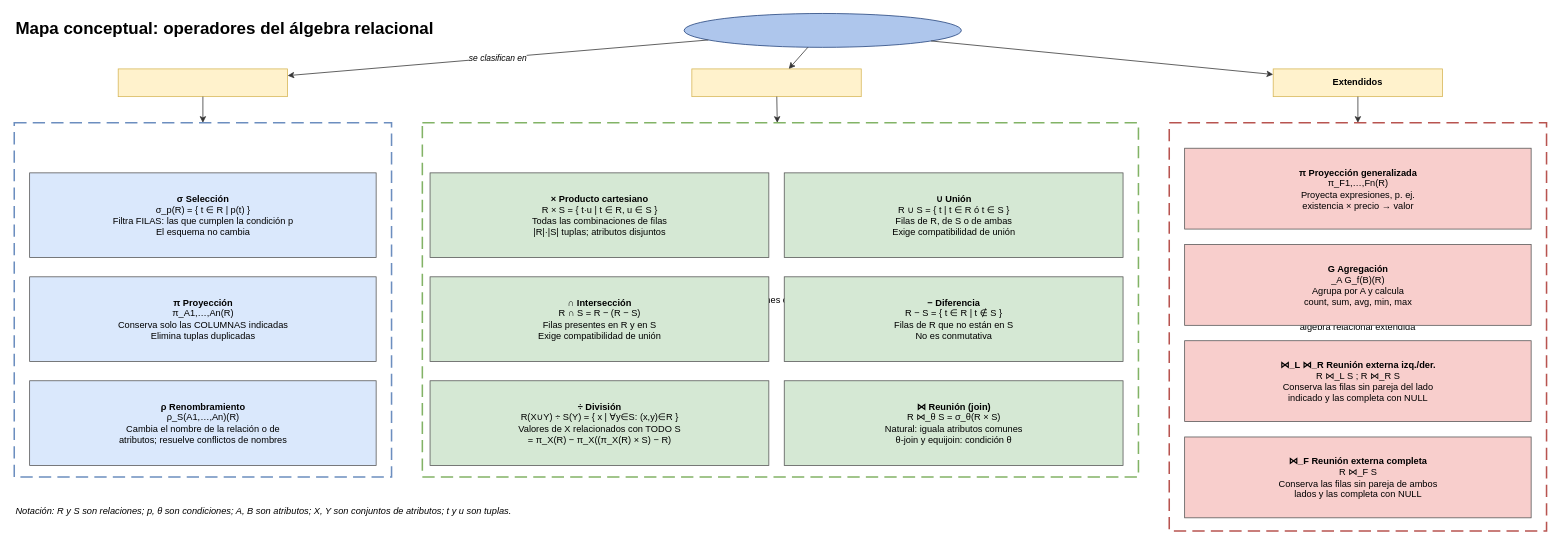
The diagram is 1560 pixels wide and 545 high, and some of its shapes have lost their labels. The centre of each missing label's shape, as x and y in pixels:
"Binarios" belongs at point (776, 82).
"Unarios" belongs at point (202, 82).
"ÁLGEBRA RELACIONAL" belongs at point (822, 30).
